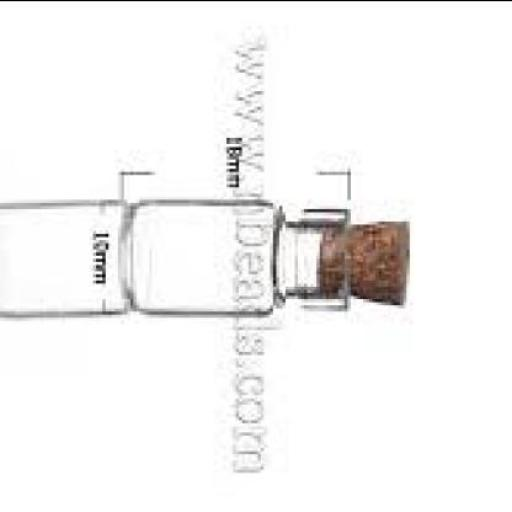glass: (4, 198, 328, 314)
